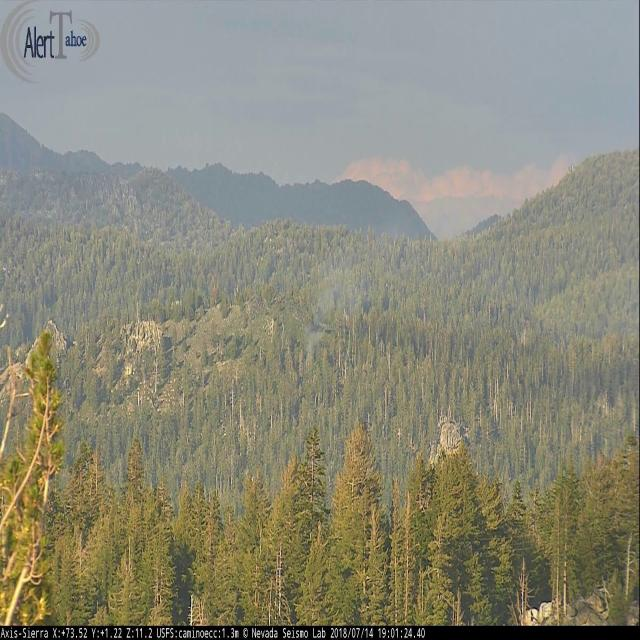smoke: (300, 220, 424, 364)
